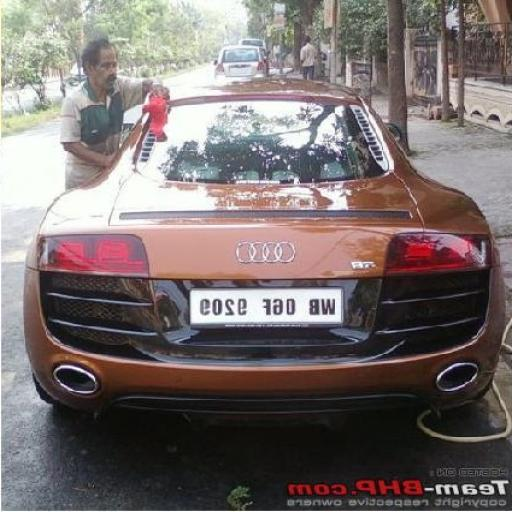License: (188, 287, 343, 331)
